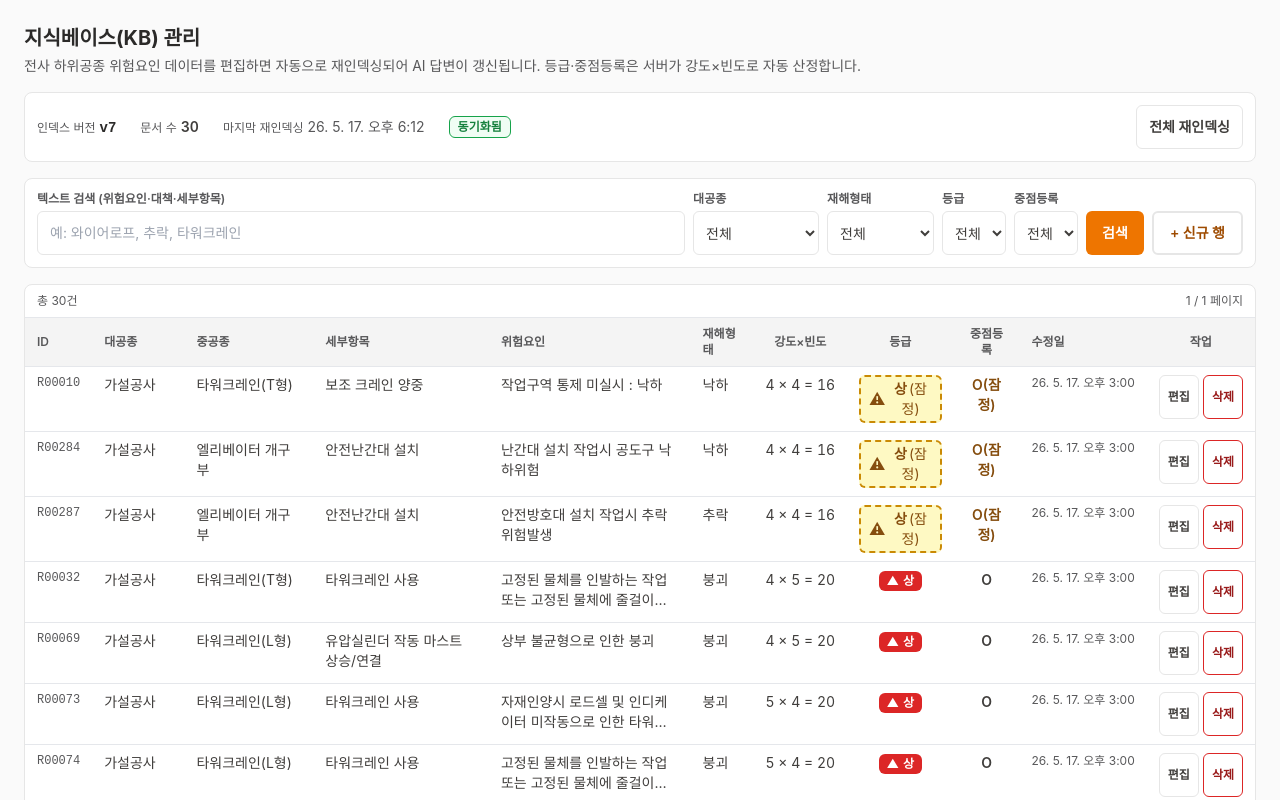
Test: KB 관리 화면 › 편집 다이얼로그: 강도×빈도 변경 시 등급 미리보기가 갱신된다
Check: the row with test id "kb-row" that starts with "R00010" is shown, box [25,366,1255,432]
Click the button with test id "kb-new" at (1197, 233), box [1152,211,1243,255]
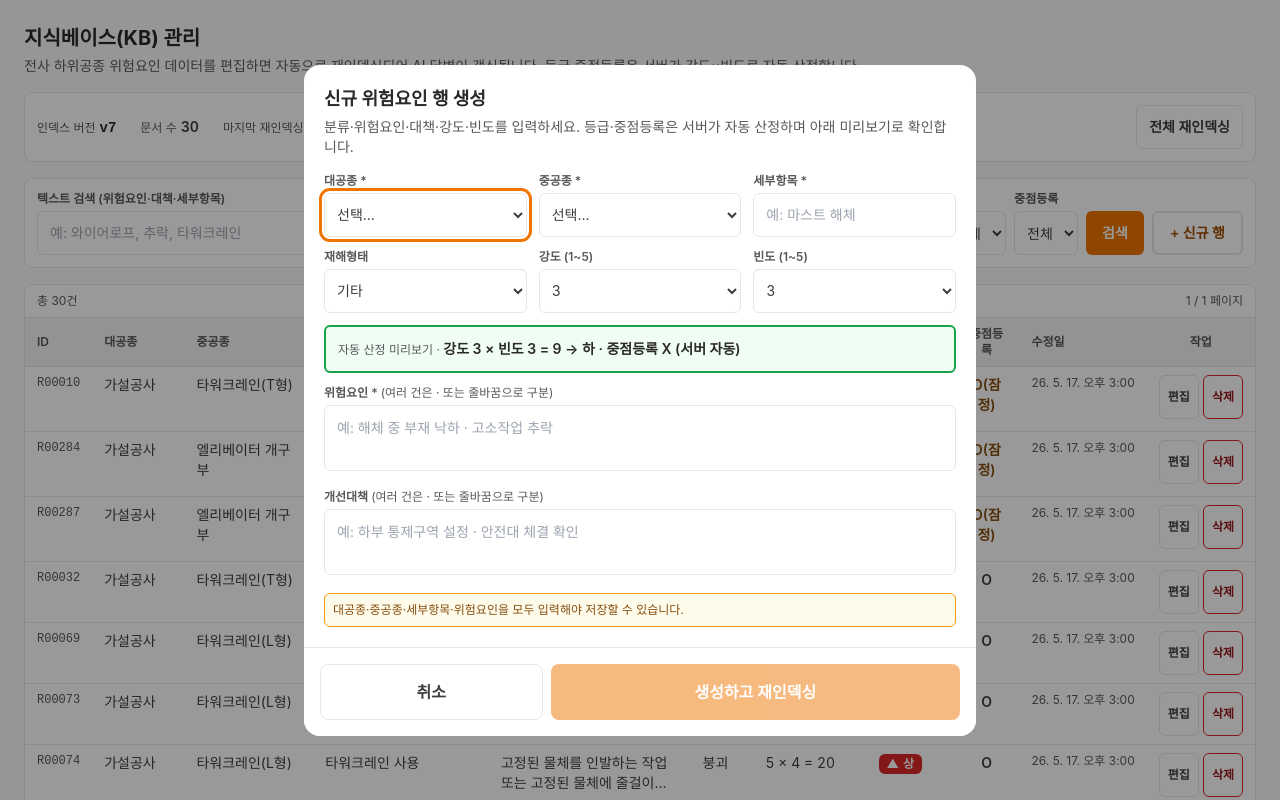
Select "5" in the dropdown with test id "kb-severity" at (640, 290), box [539,268,741,312]
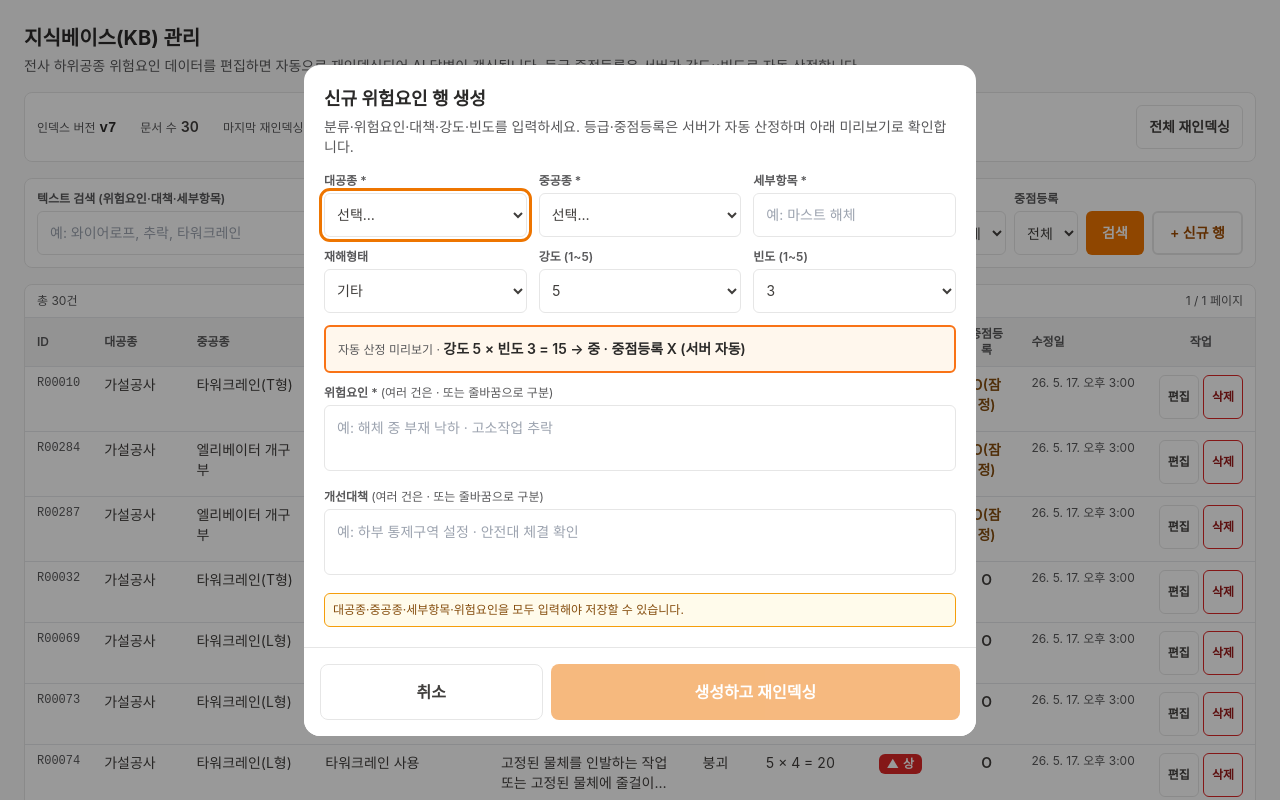
Select "4" in the dropdown with test id "kb-frequency" at (855, 290), box [753,268,956,312]
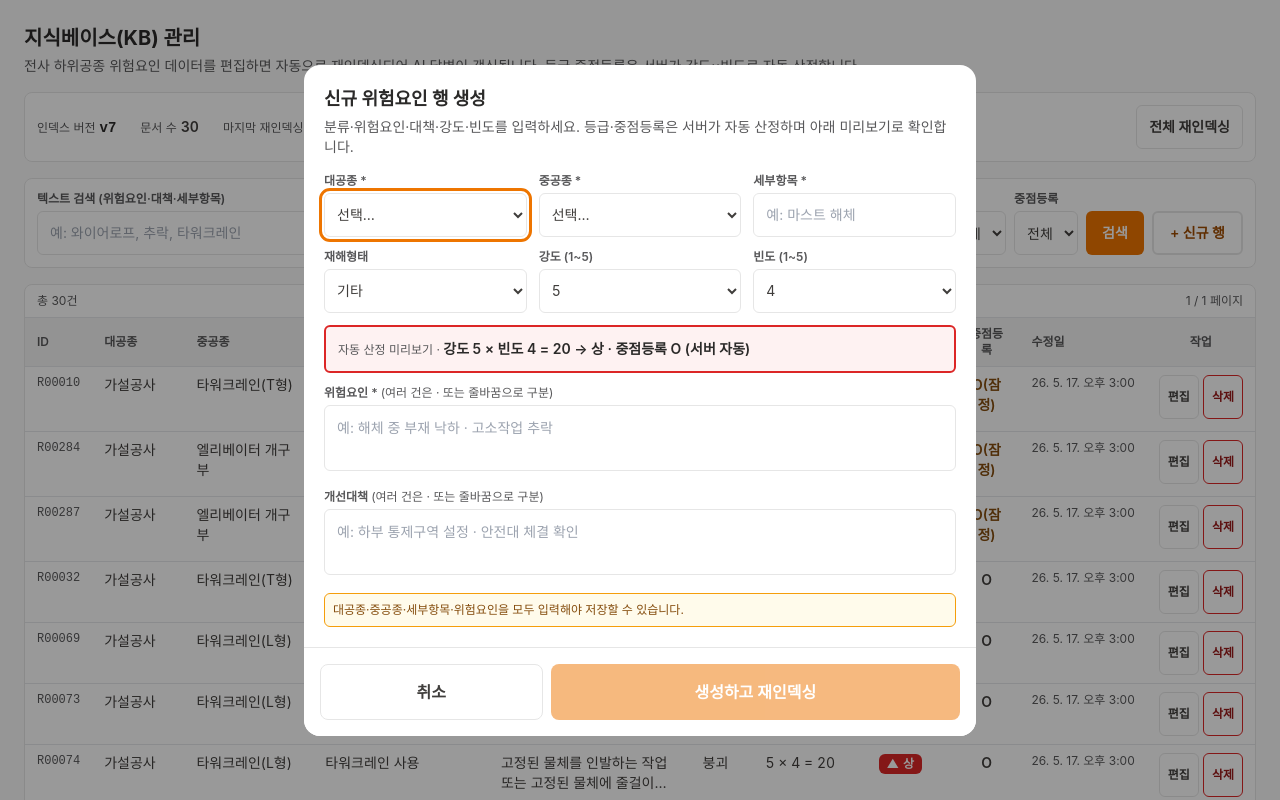
Check: the element with test id "grade-preview" shows "상", box [443,340,750,356]
Check: the element with test id "grade-preview" shows "20", box [443,340,750,356]
Select "4" in the dropdown with test id "kb-severity" at (640, 290), box [539,268,741,312]
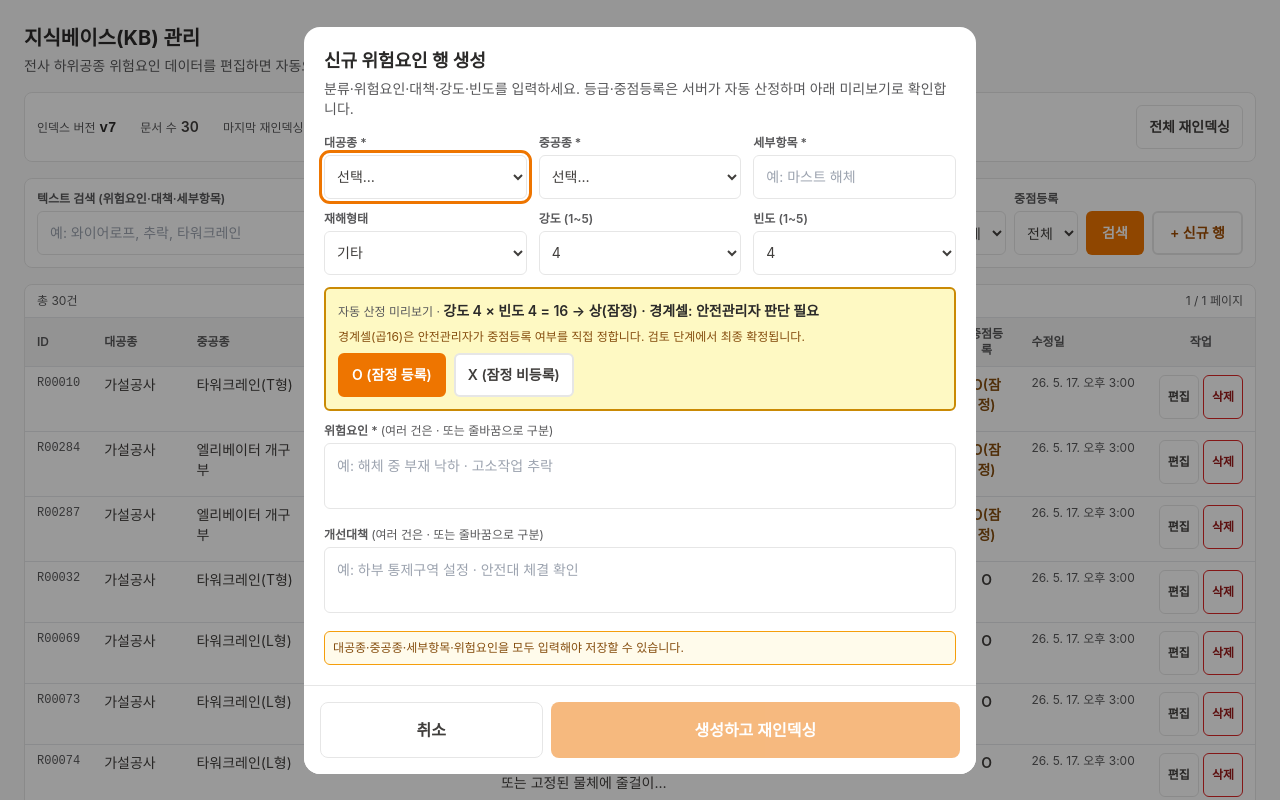
Check: the element with test id "grade-preview" shows "경계셀", box [443,302,819,318]
